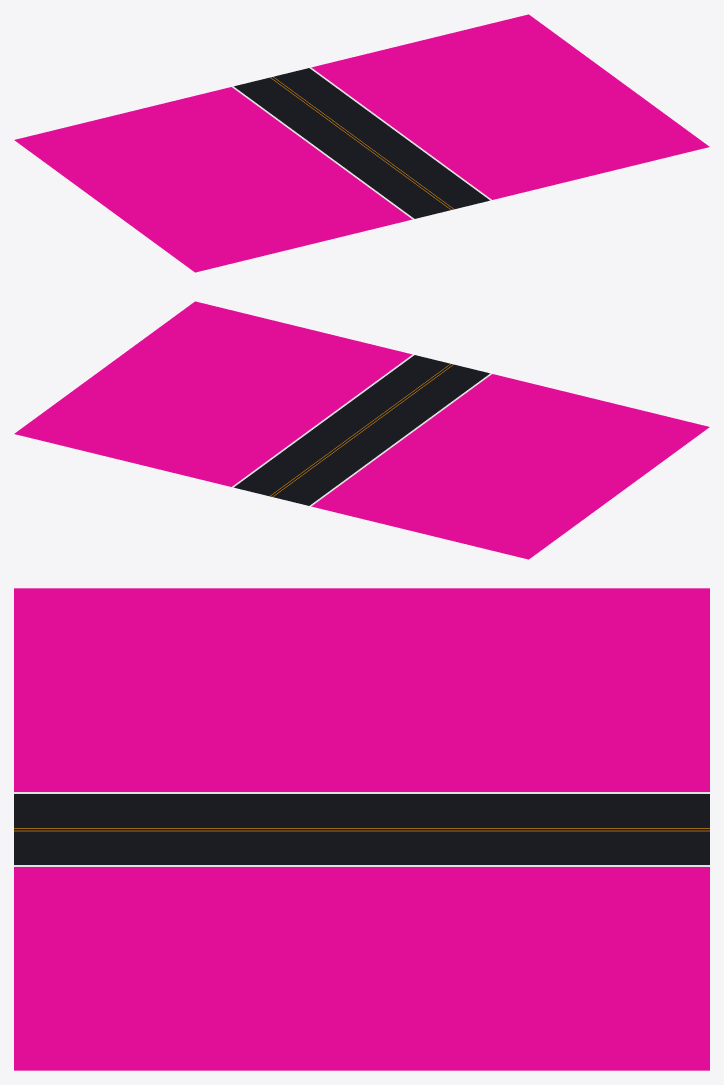
File: Road.fbx
3 views of the same model, one above another, from view 1: azimuth 30°, elevation 25°; view 2: azimuth 150°, elevation 25°; view 3: azimuth 270°, elevation 25° (orthographic). The views are drawn at different scales.
Parts seen in each view (by area): view 1: Plane; view 2: Plane; view 3: Plane.
Part boxes in pixels (x1=…): Plane: x1=14, y1=14, x2=709, y2=272; Plane: x1=14, y1=301, x2=709, y2=559; Plane: x1=14, y1=588, x2=709, y2=1070.
Bounding box in the file's own units: 2724 × 0 × 1660.
